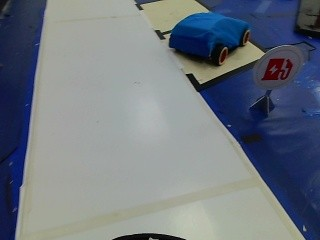battery: (257, 50, 302, 89)
car: (162, 8, 252, 67)
